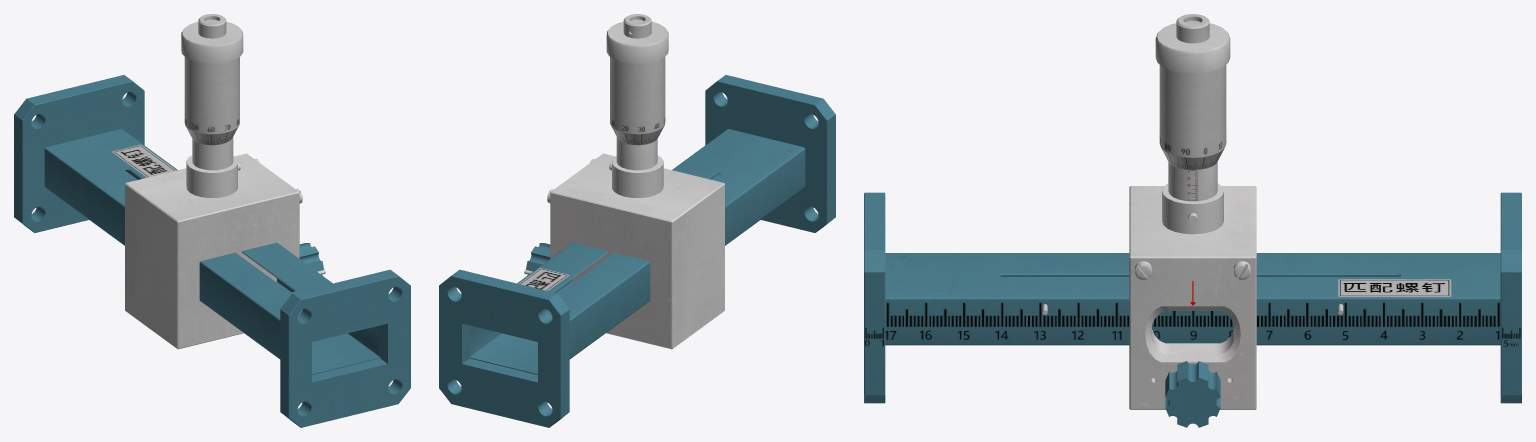
Rendered from pi_pei_luo_ding_3.FBX.
The picture shows the model from 3 angles, left to right: view 1: azimuth 30°, elevation 25°; view 2: azimuth 150°, elevation 25°; view 3: azimuth 270°, elevation 25°; orthographic projection. The views are drawn at different scales.
Visible parts, largest first — view 1: c1, 对象003, 对象002, 对象001, 对象006, 对象005, 对象004; view 2: c1, 对象003, 对象001, 对象002, 对象006, 对象005, 对象004; view 3: 对象003, c1, 对象006, 对象001, 对象002, 对象004, 对象005.
Part boxes in pixels (x1,y1,x2,y2): c1: (125,153,302,349); 对象003: (44,129,380,374); 对象002: (280,269,410,427); 对象001: (14,75,144,232); 对象006: (181,14,243,145); 对象005: (192,137,233,170); 对象004: (299,243,323,275); c1: (547,153,724,349); 对象003: (469,129,805,374); 对象001: (439,269,569,427); 对象002: (705,75,835,232); 对象006: (606,14,668,145); 对象005: (616,137,657,170); 对象004: (526,243,550,275); 对象003: (885,253,1500,345); c1: (1129,183,1256,409); 对象006: (1155,14,1230,169); 对象001: (1500,192,1521,403); 对象002: (864,192,885,403); 对象004: (1165,361,1220,427); 对象005: (1168,162,1217,201).
Size of the model in its own units: 52.69 by 92.32 by 155.
